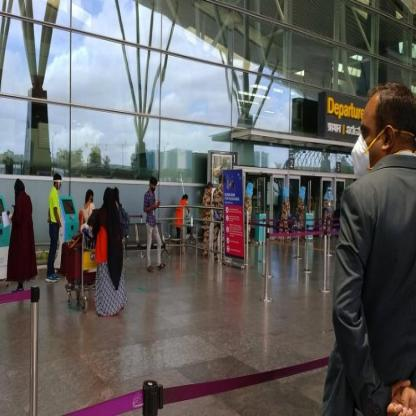airport-trolley: (58, 224, 99, 314)
